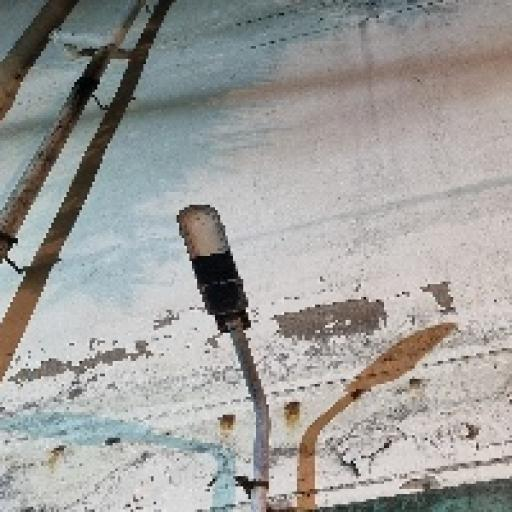Not Working: (156, 185, 286, 359)
